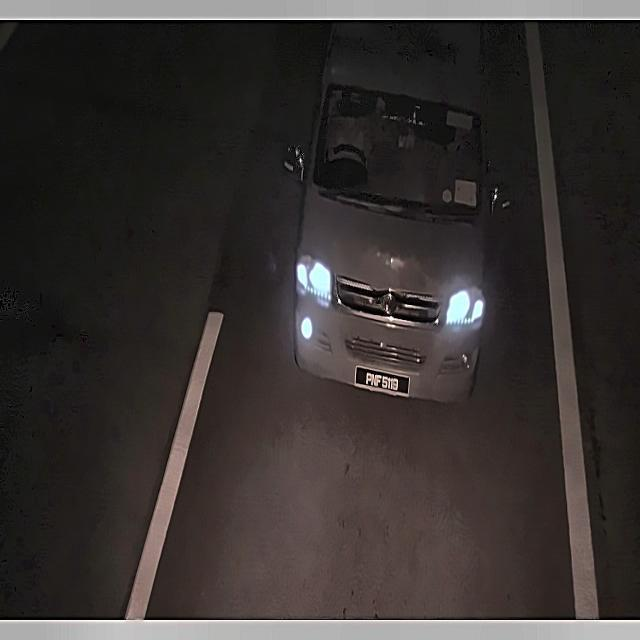car: (351, 363, 414, 402)
